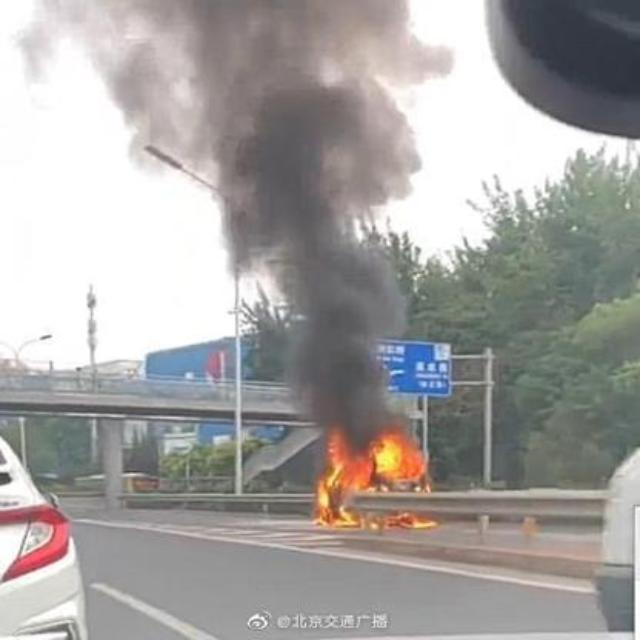Fire: (314, 418, 440, 530)
Smoke: (19, 2, 448, 408)
